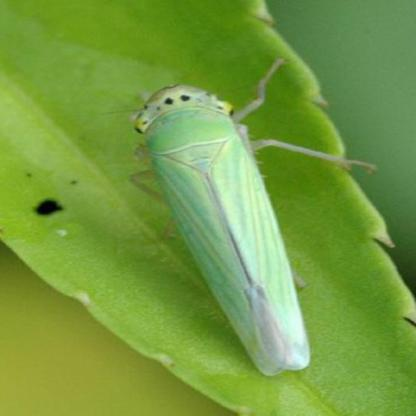Green-Leafhopper: (128, 54, 372, 374)
